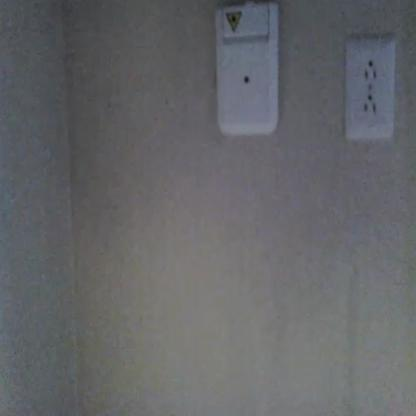OUTLET: (346, 36, 396, 140)
